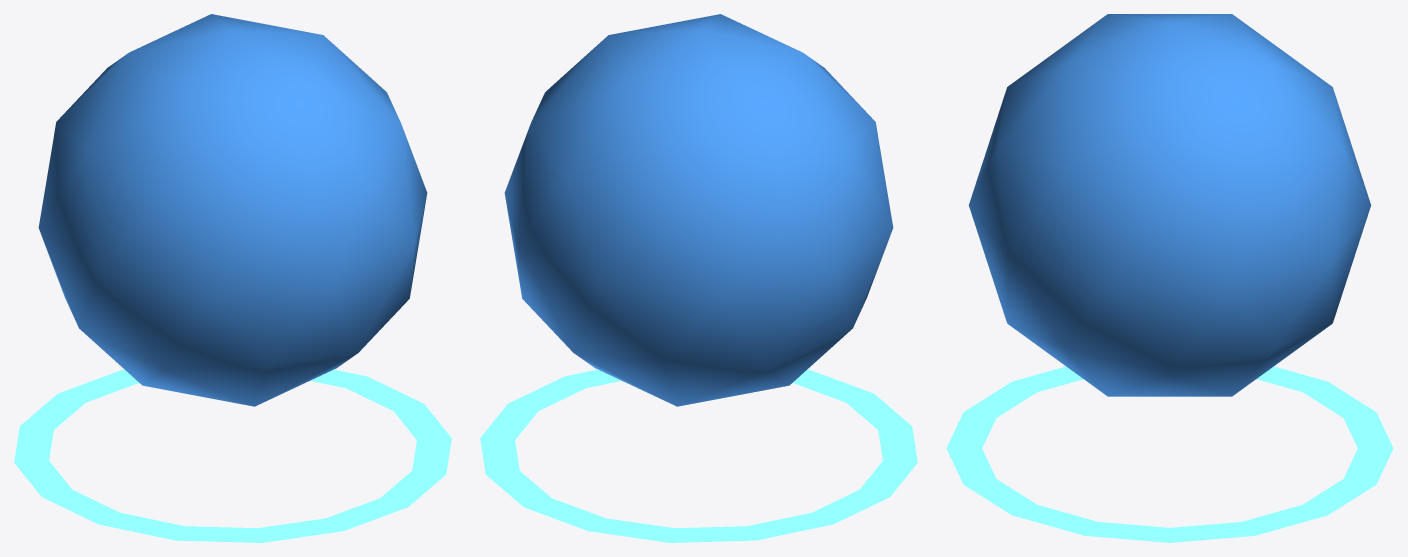
3 renders of one model, left to right at view 1: azimuth 30°, elevation 25°; view 2: azimuth 150°, elevation 25°; view 3: azimuth 270°, elevation 25°, orthographic.
Parts seen in each view (by area): view 1: emblem_arcade.lod1; view 2: emblem_arcade.lod1; view 3: emblem_arcade.lod1.
Part boxes in pixels (box(x1,y1,x2,y2)): emblem_arcade.lod1: box(14, 14, 451, 542); emblem_arcade.lod1: box(480, 14, 917, 542); emblem_arcade.lod1: box(946, 14, 1393, 542).
Bounding box in the file's own units: 1 × 1.05 × 1.
